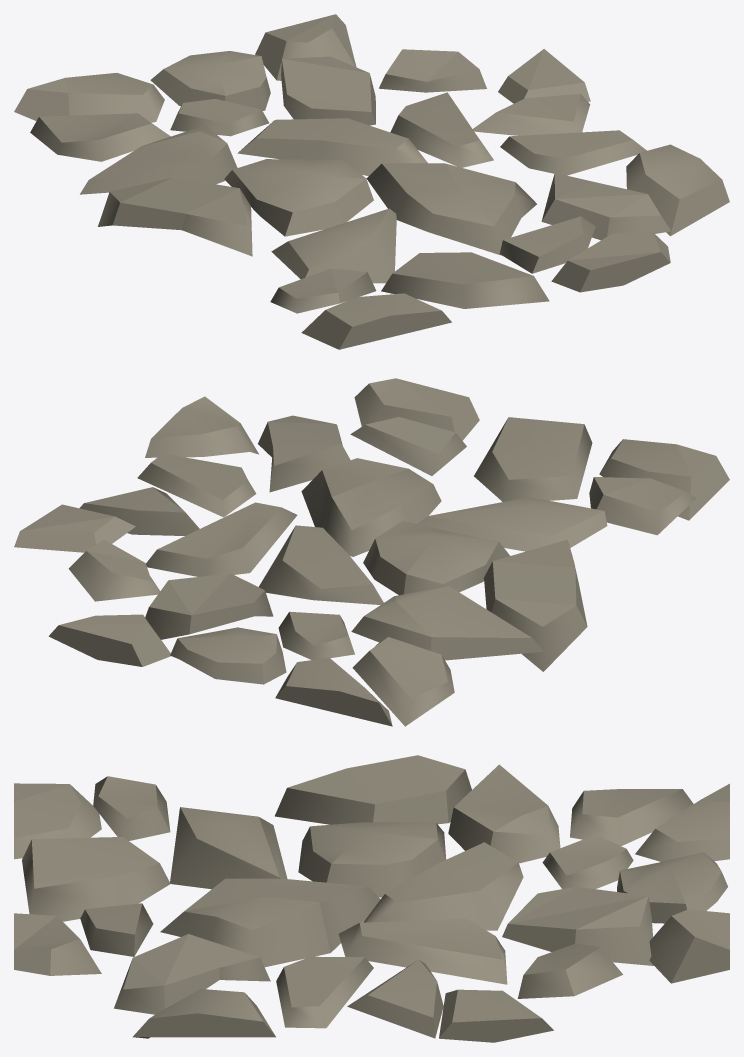
The model's file is Stone_Path_Crossroads_R.glb.
The picture shows the model from 3 angles, top to bottom: view 1: azimuth 30°, elevation 25°; view 2: azimuth 150°, elevation 25°; view 3: azimuth 270°, elevation 25°; orthographic projection. The views are drawn at different scales.
Parts seen in each view (by area): view 1: Stone_Path_Crossroads_R; view 2: Stone_Path_Crossroads_R; view 3: Stone_Path_Crossroads_R.
Part boxes in pixels (x1,y1,x2,y2): Stone_Path_Crossroads_R: (14,14,729,349); Stone_Path_Crossroads_R: (14,378,729,726); Stone_Path_Crossroads_R: (14,755,729,1042).
Bounding box in the file's own units: 1.28 × 0.1445 × 1.47.
